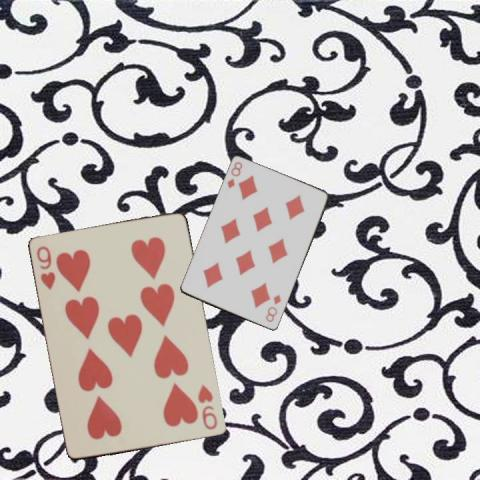8d: (262, 292, 283, 324), (224, 159, 244, 190)
9h: (196, 382, 220, 432), (34, 243, 57, 292)
